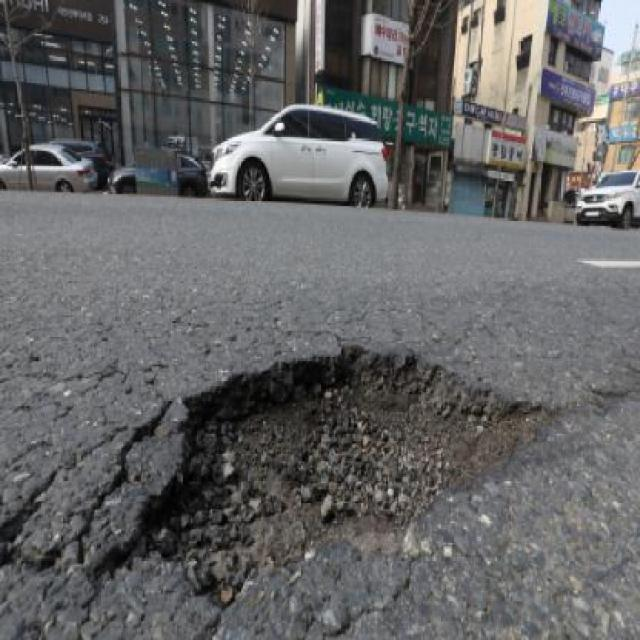Buraco: (75, 338, 574, 614)
